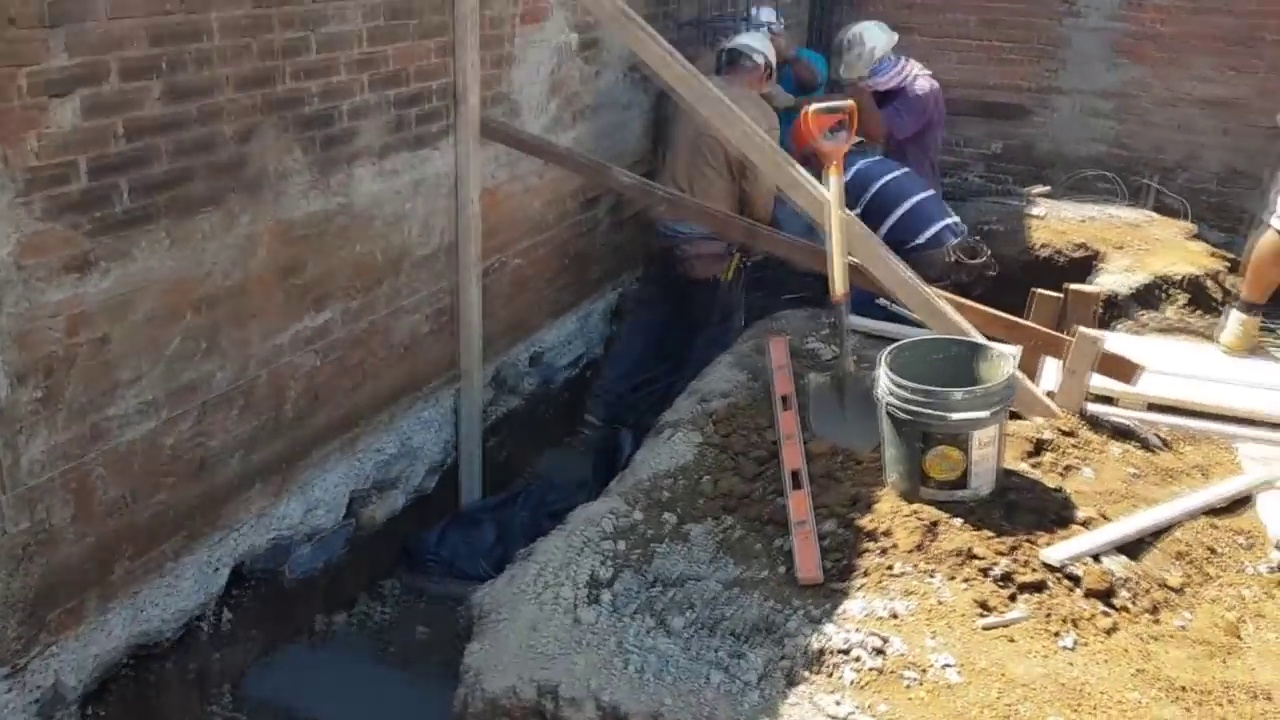helmet: (838, 20, 899, 75), (721, 34, 776, 74), (740, 5, 784, 36)
helmet-on: (838, 19, 911, 88), (716, 34, 777, 98), (740, 6, 796, 61)
person: (585, 34, 780, 447), (836, 146, 995, 291), (835, 18, 945, 191)
